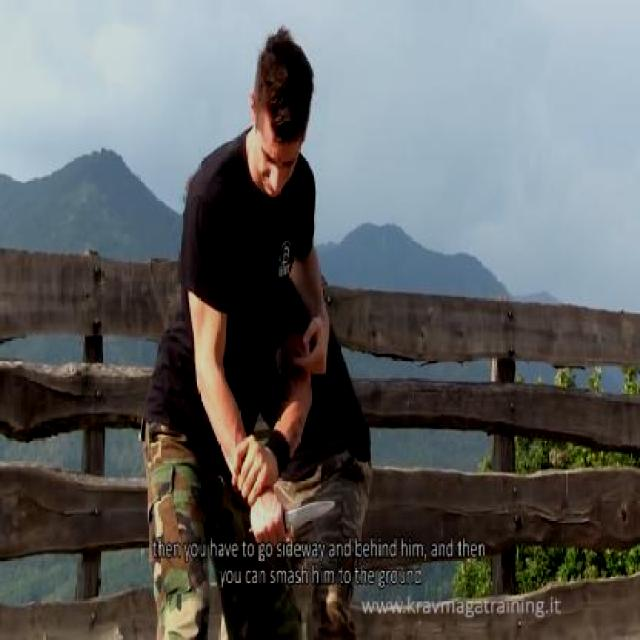knife: (246, 488, 343, 549)
